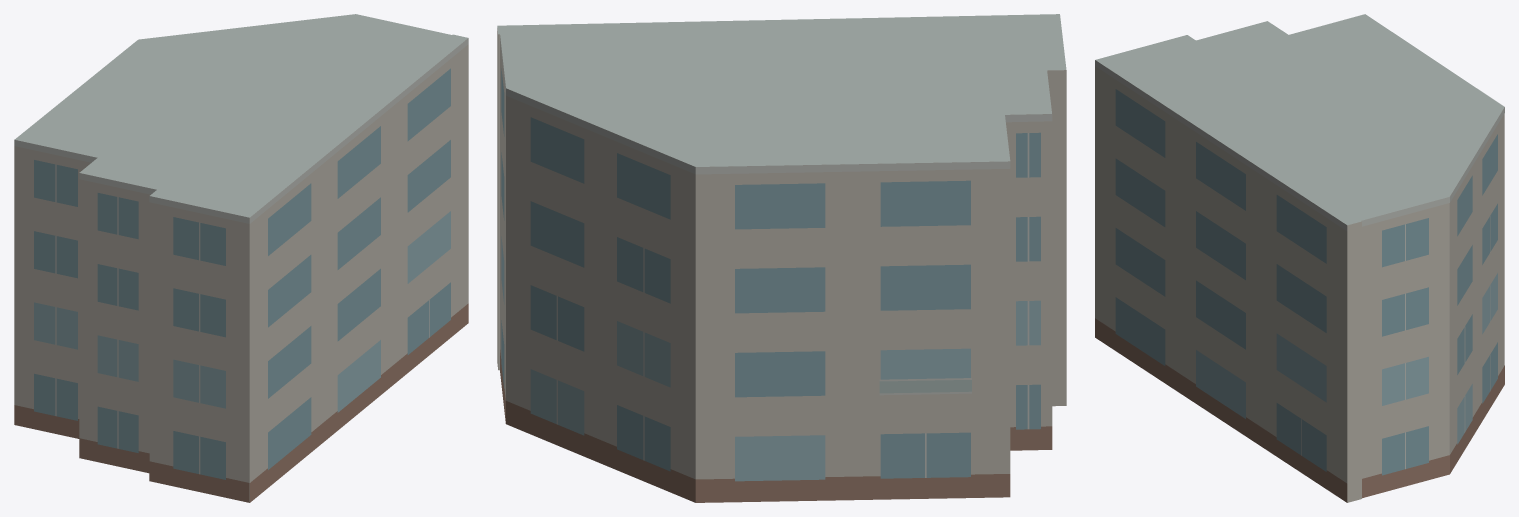
Rendered from survey-upis-32680459.glb.
3 views of the same model, side by side, from view 1: azimuth 30°, elevation 25°; view 2: azimuth 150°, elevation 25°; view 3: azimuth 270°, elevation 25° (orthographic). The views are drawn at different scales.
Visible parts, largest first — view 1: survey-upis-32680459.tmp; view 2: survey-upis-32680459.tmp; view 3: survey-upis-32680459.tmp.
Boxes of the visible parts, bbox=[...] form: survey-upis-32680459.tmp: bbox=[14, 14, 468, 502]; survey-upis-32680459.tmp: bbox=[497, 14, 1066, 502]; survey-upis-32680459.tmp: bbox=[1095, 14, 1504, 502].
Size of the model in its own units: 18.08 by 11.07 by 14.82.
